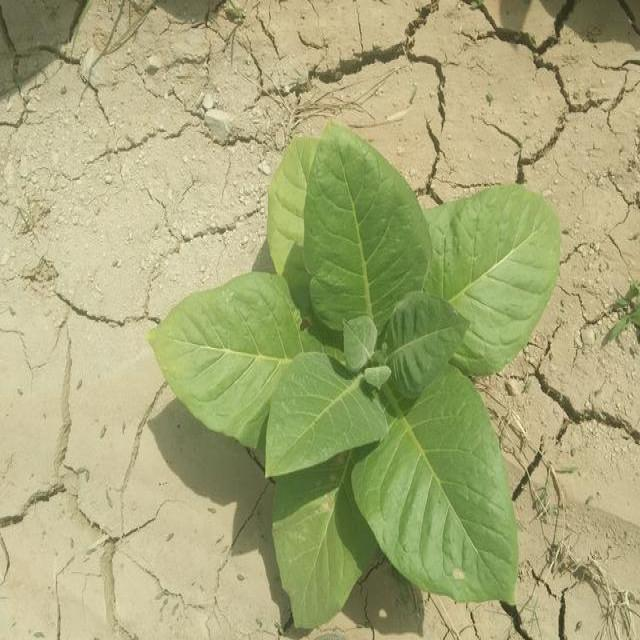crop: (158, 123, 558, 640)
